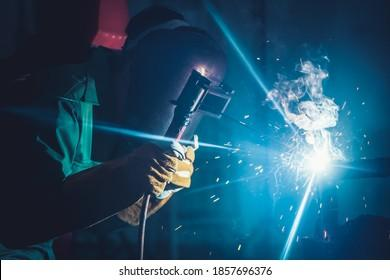gloves: (58, 143, 177, 236), (120, 139, 198, 223)
